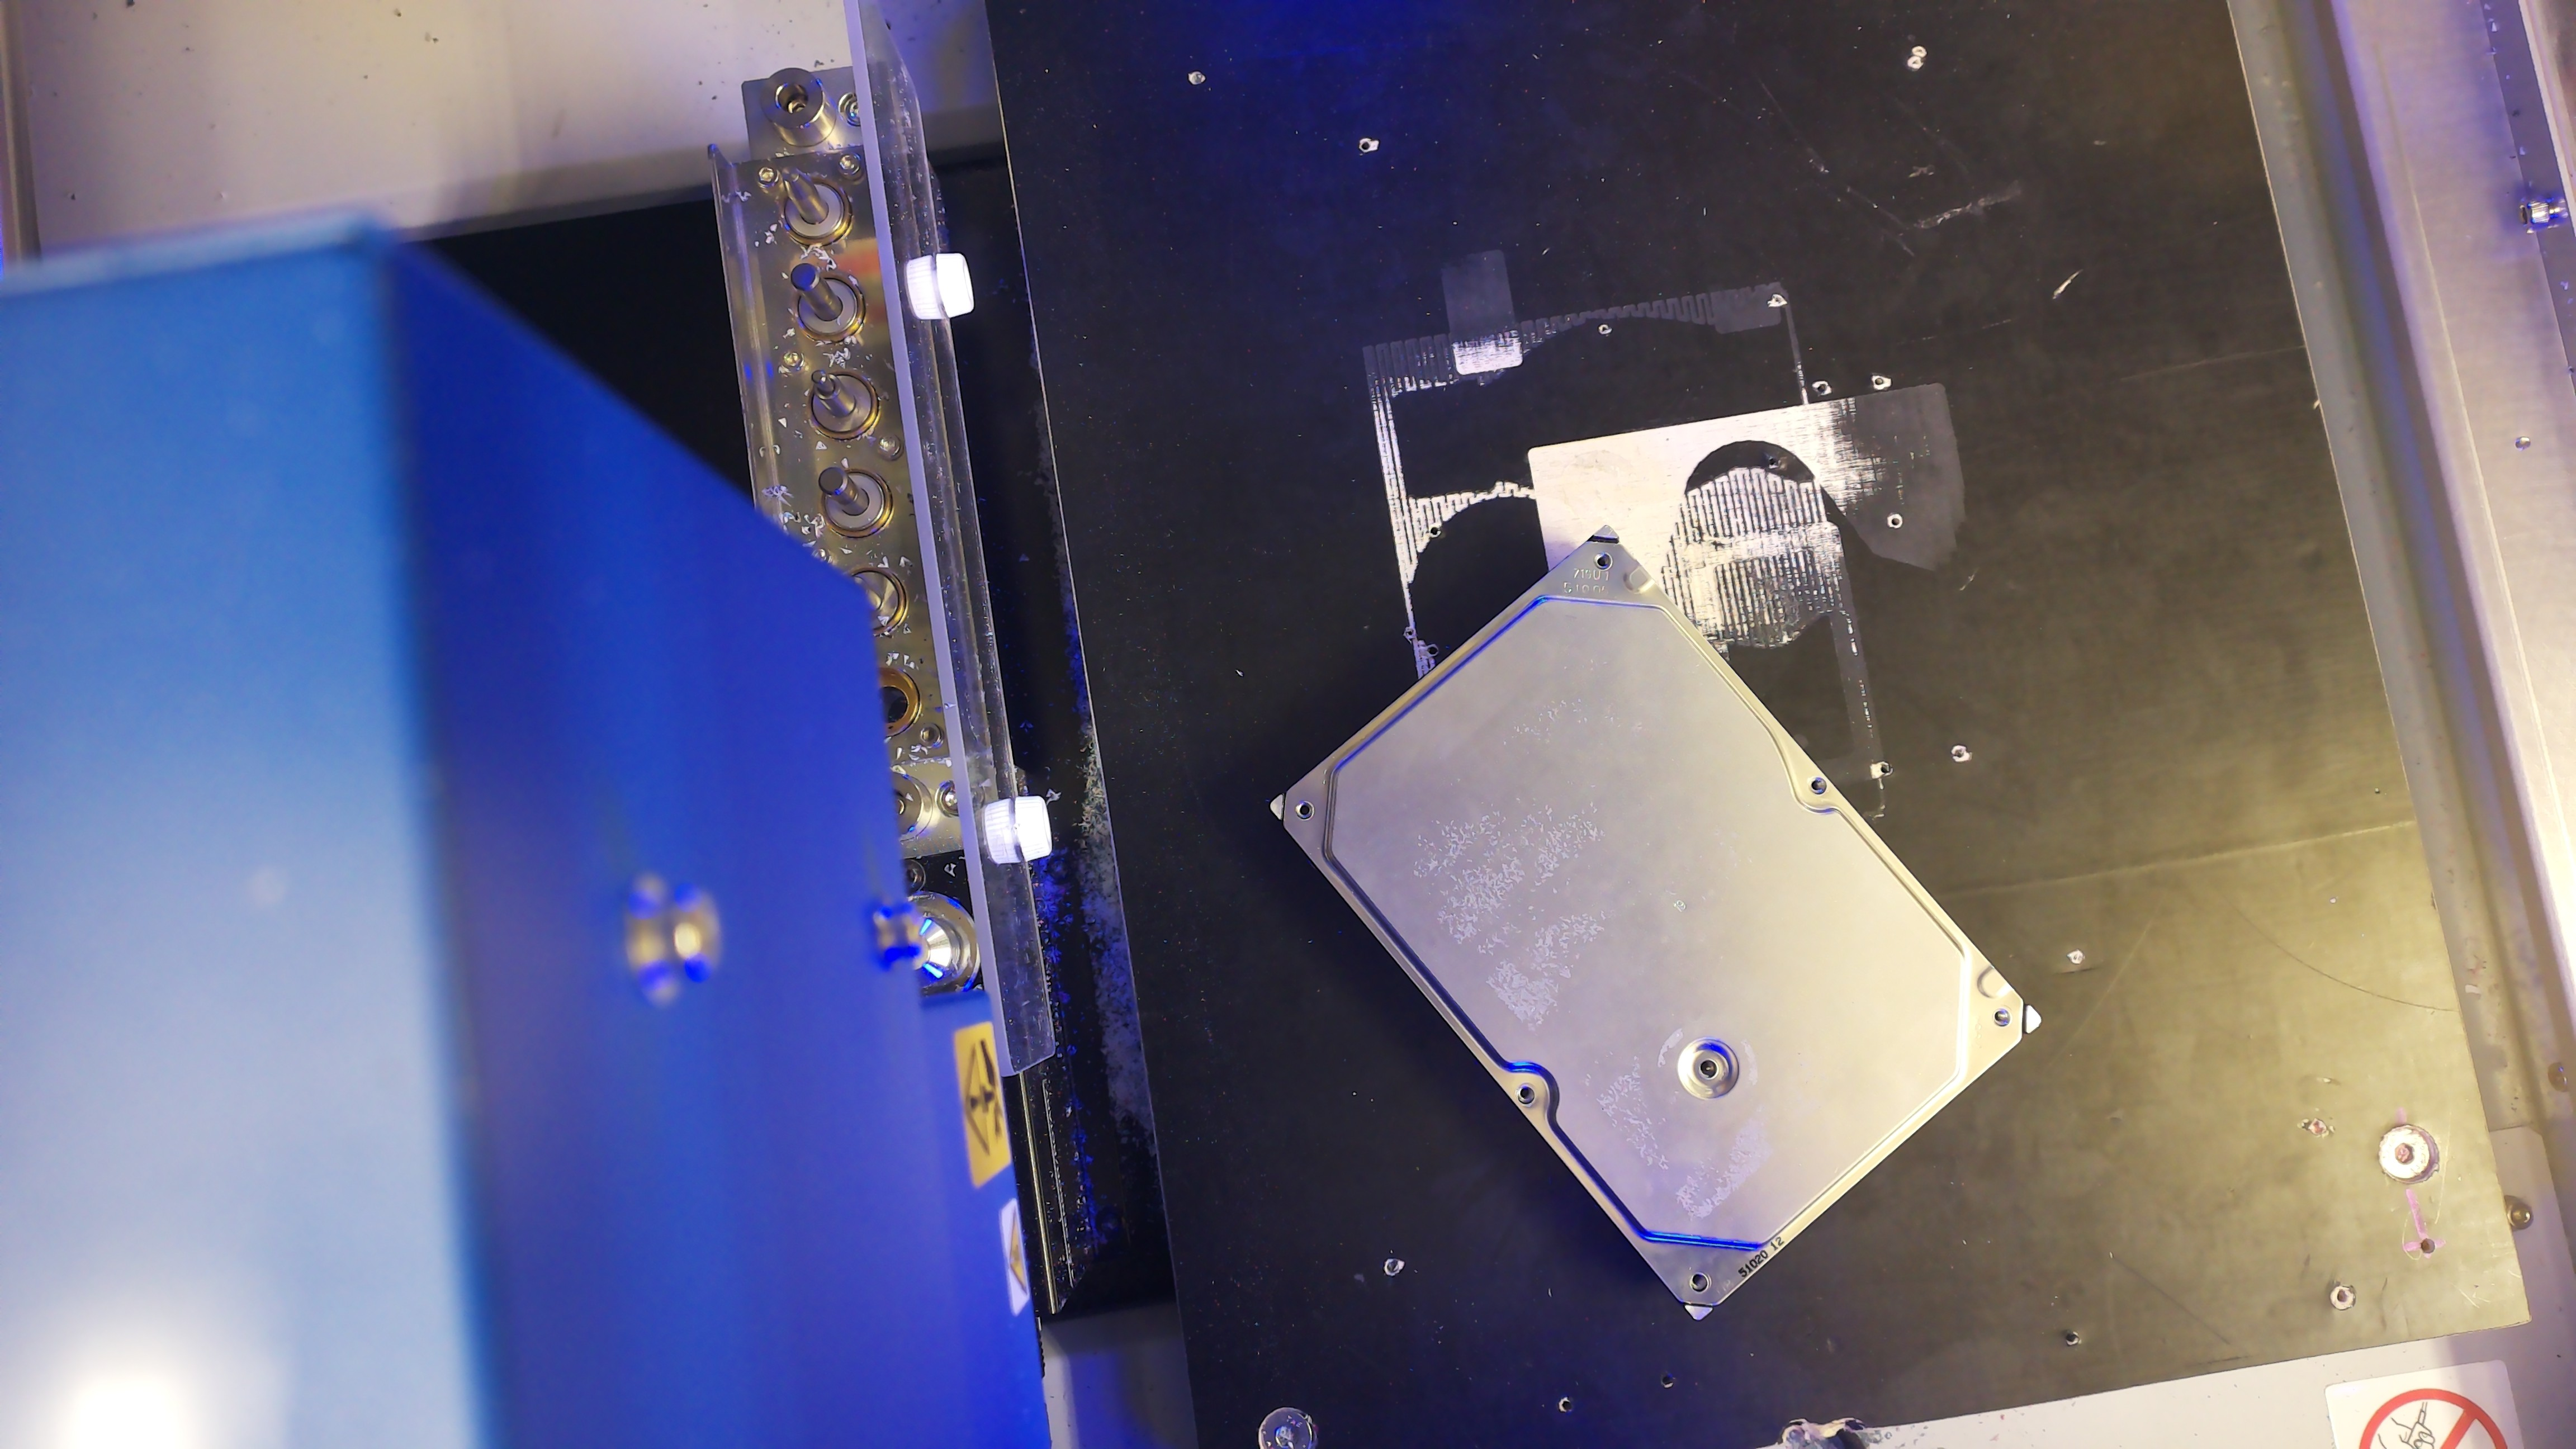Hole: (1806, 775, 1828, 796), (1698, 1058, 1720, 1079), (1516, 1085, 1536, 1106), (1690, 1272, 1709, 1293), (1992, 1008, 2012, 1028), (1592, 552, 1614, 570), (1295, 798, 1313, 819)
